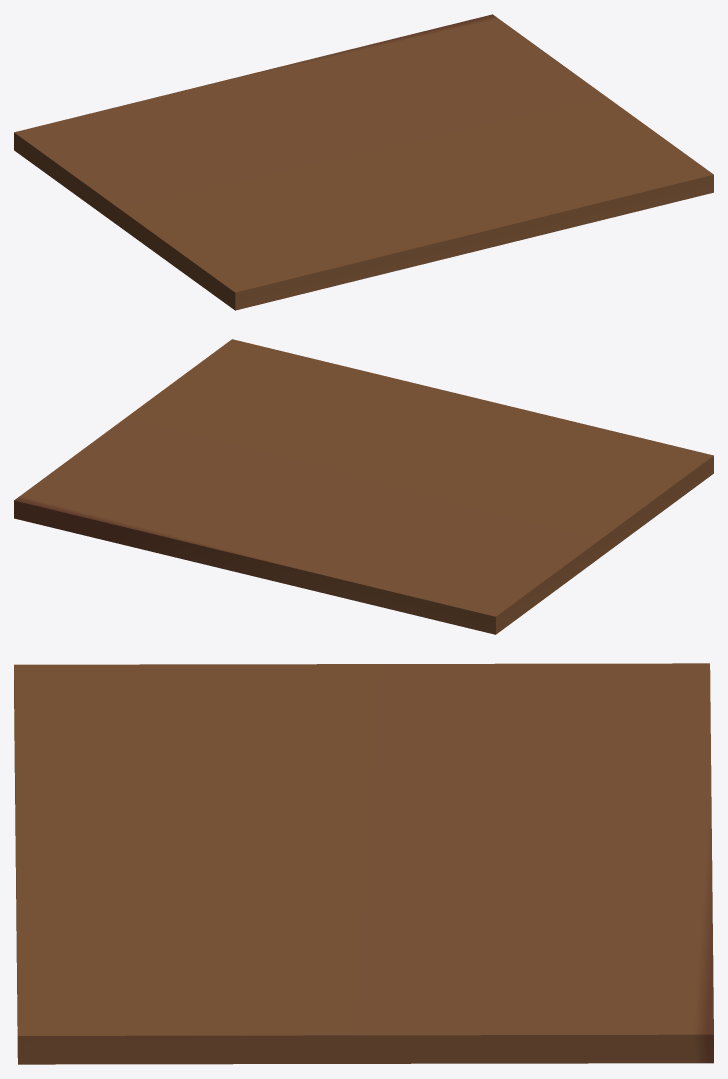
Rendered from Farmhouse_Base.gltf.
3 renders of one model, top to bottom at view 1: azimuth 30°, elevation 25°; view 2: azimuth 150°, elevation 25°; view 3: azimuth 270°, elevation 25°, orthographic. The views are drawn at different scales.
Visible parts, largest first — view 1: Farmhouse_Base; view 2: Farmhouse_Base; view 3: Farmhouse_Base.
Boxes of the visible parts, box(x1,y1,x2,y2) form: Farmhouse_Base: box(14, 14, 713, 310); Farmhouse_Base: box(14, 339, 713, 634); Farmhouse_Base: box(14, 663, 713, 1064).
Size of the model in its own units: 5.6 by 0.2 by 4.45.
1 material, 1 textured.
